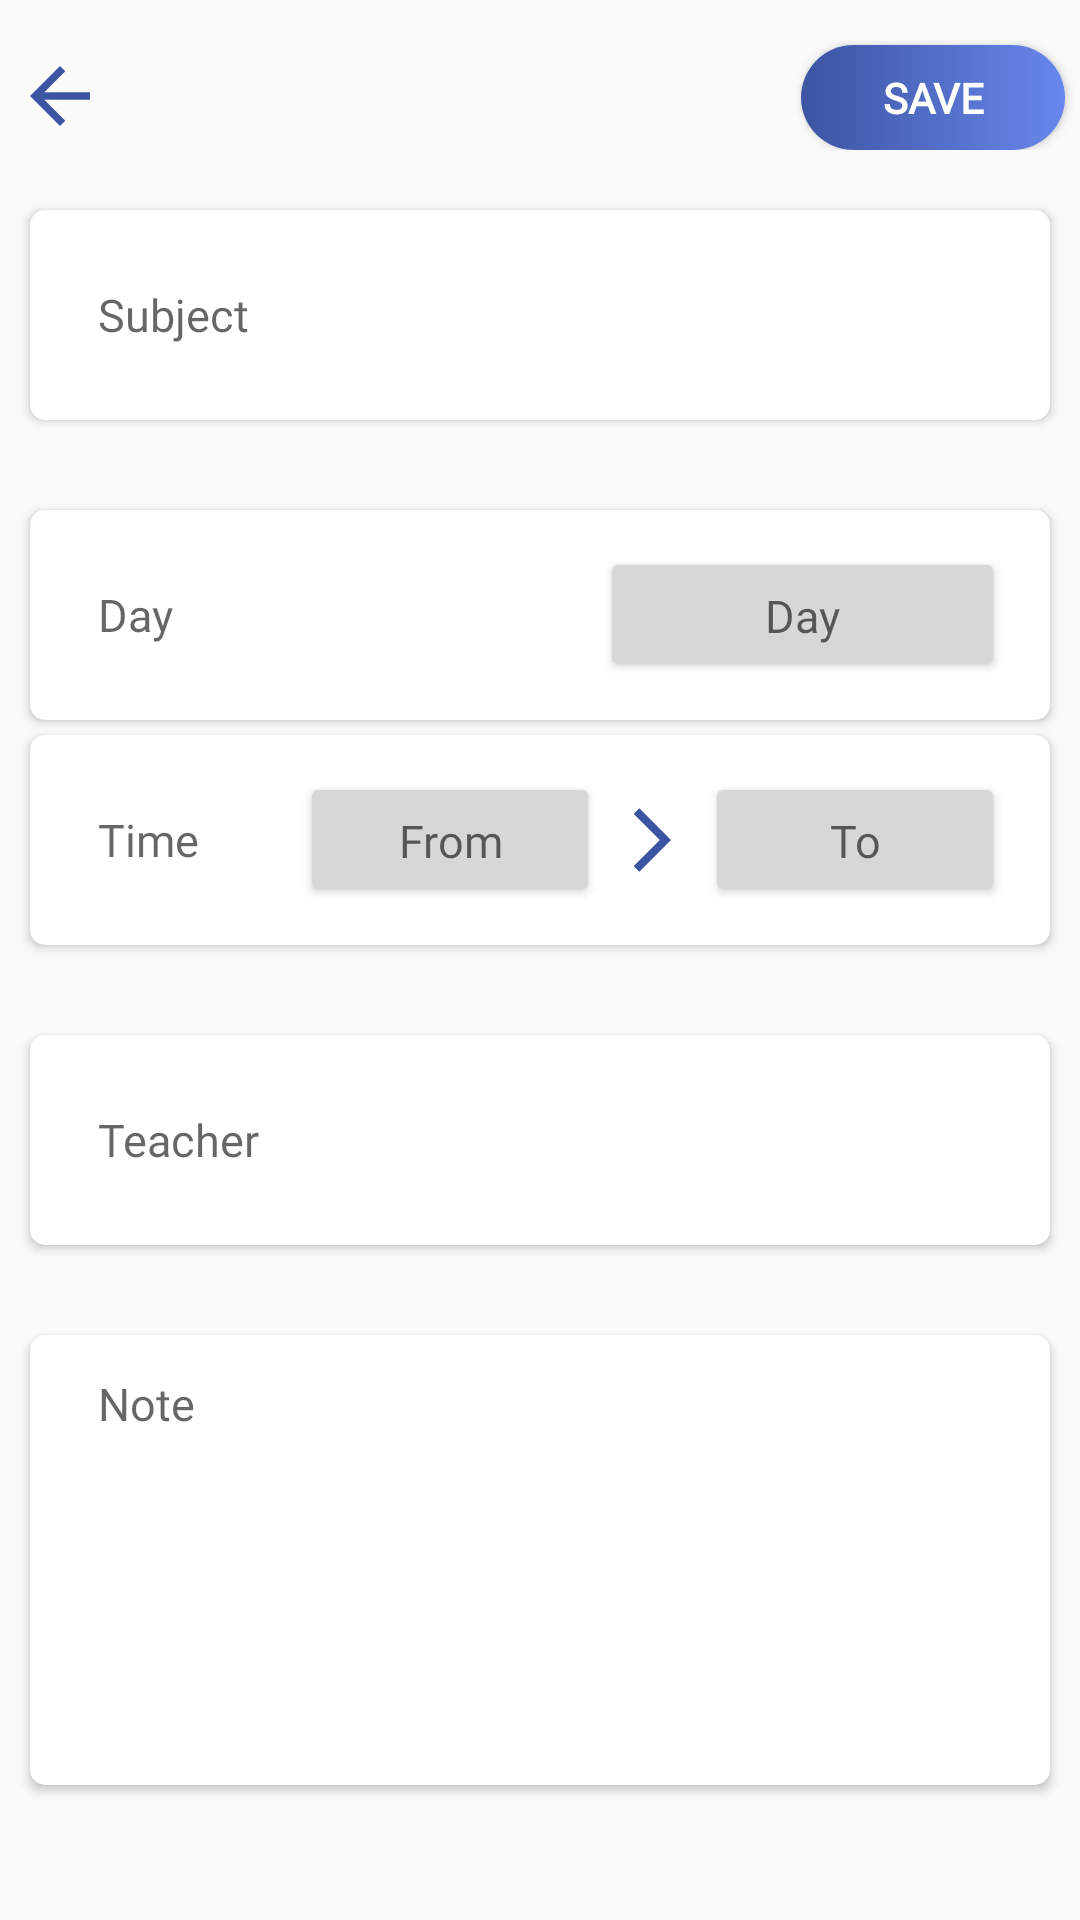

Named icons in this screenshot (1080w x 1920h) and their centers, [x,y]:
arrow back: [60,96]
